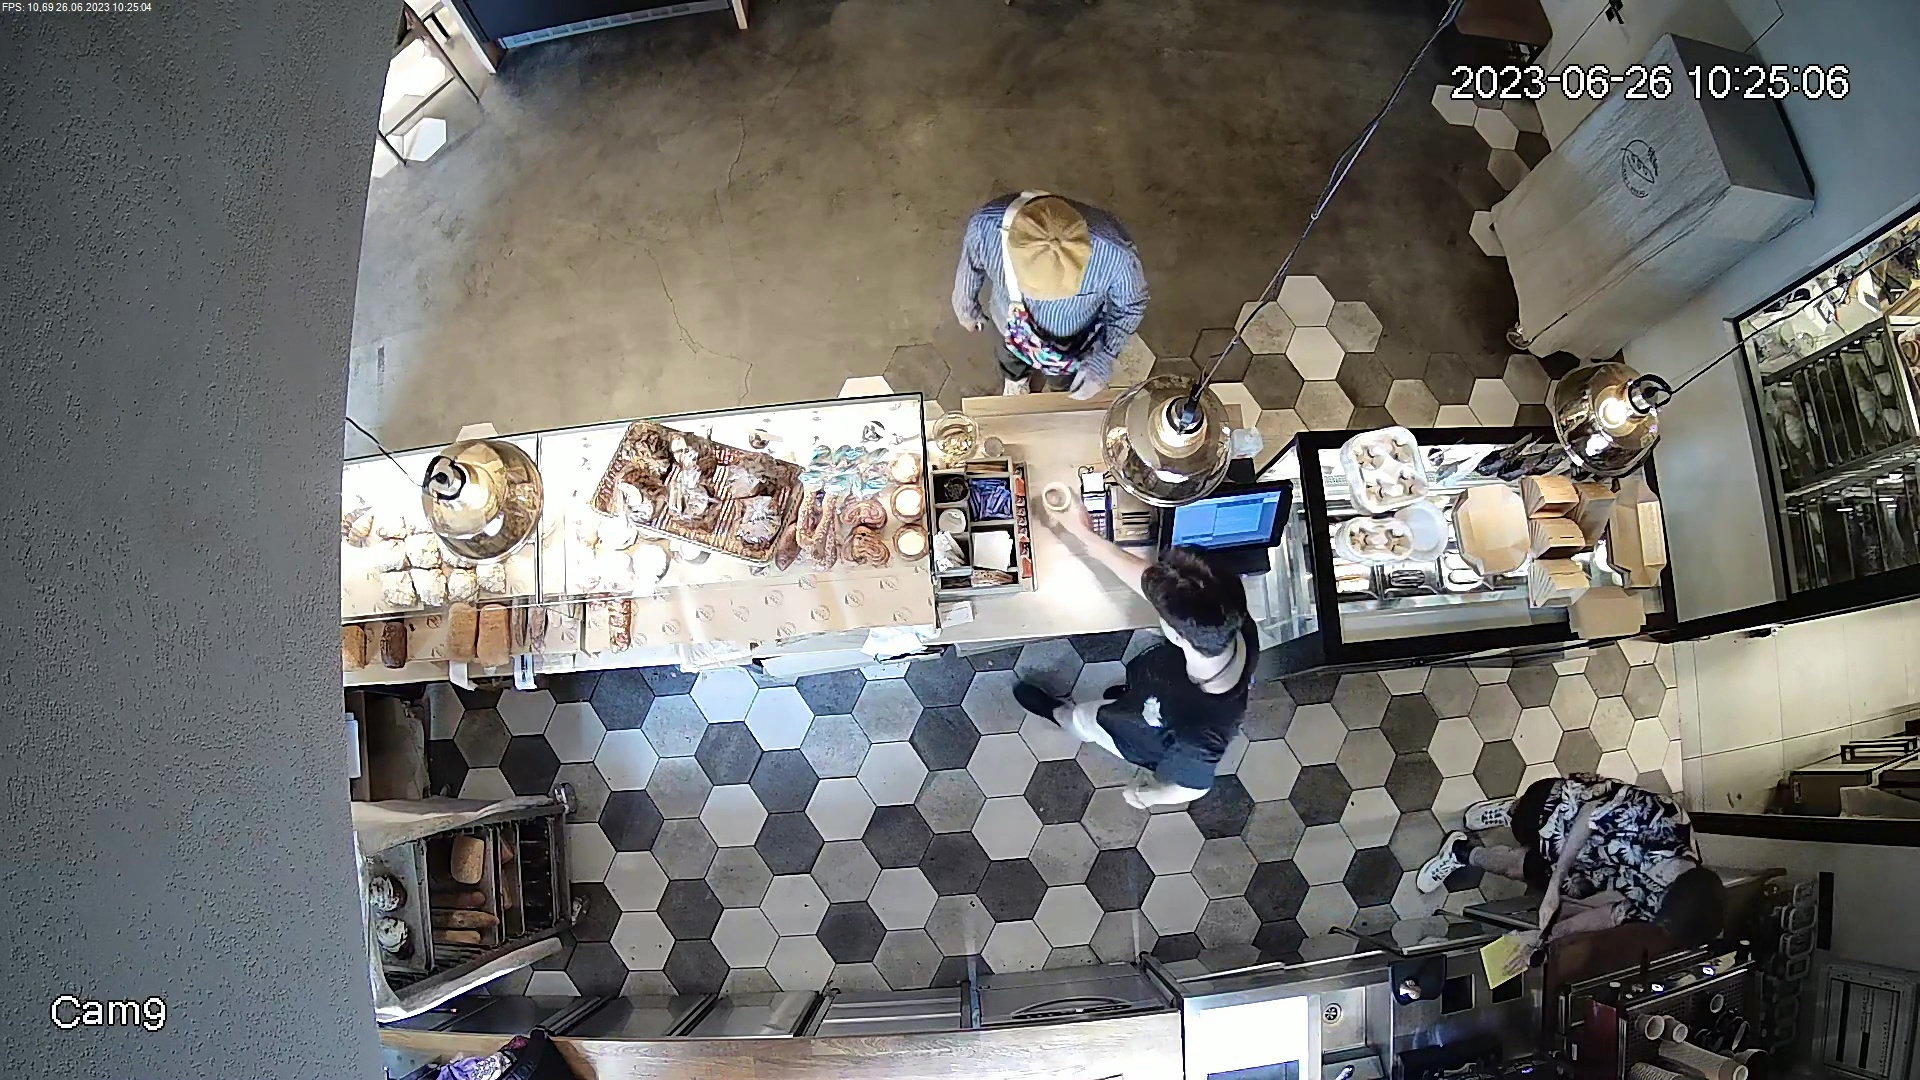coffee: (1038, 477, 1076, 513)
person: (940, 180, 1157, 400)
